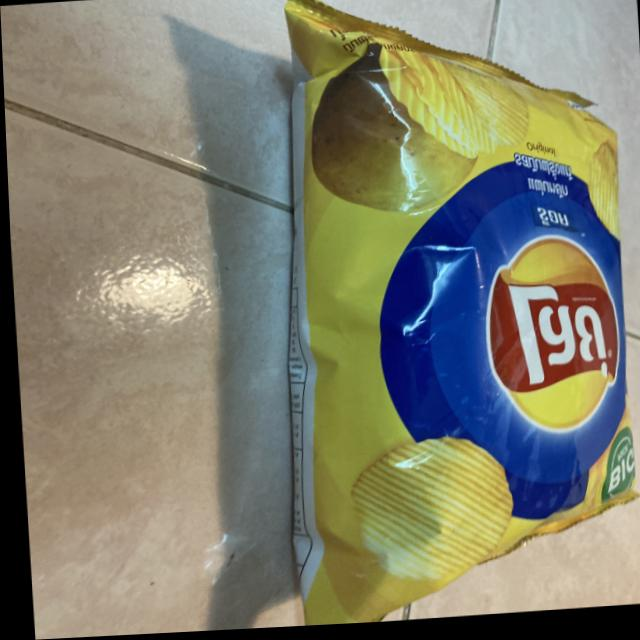LayYellow: (227, 0, 640, 631)
